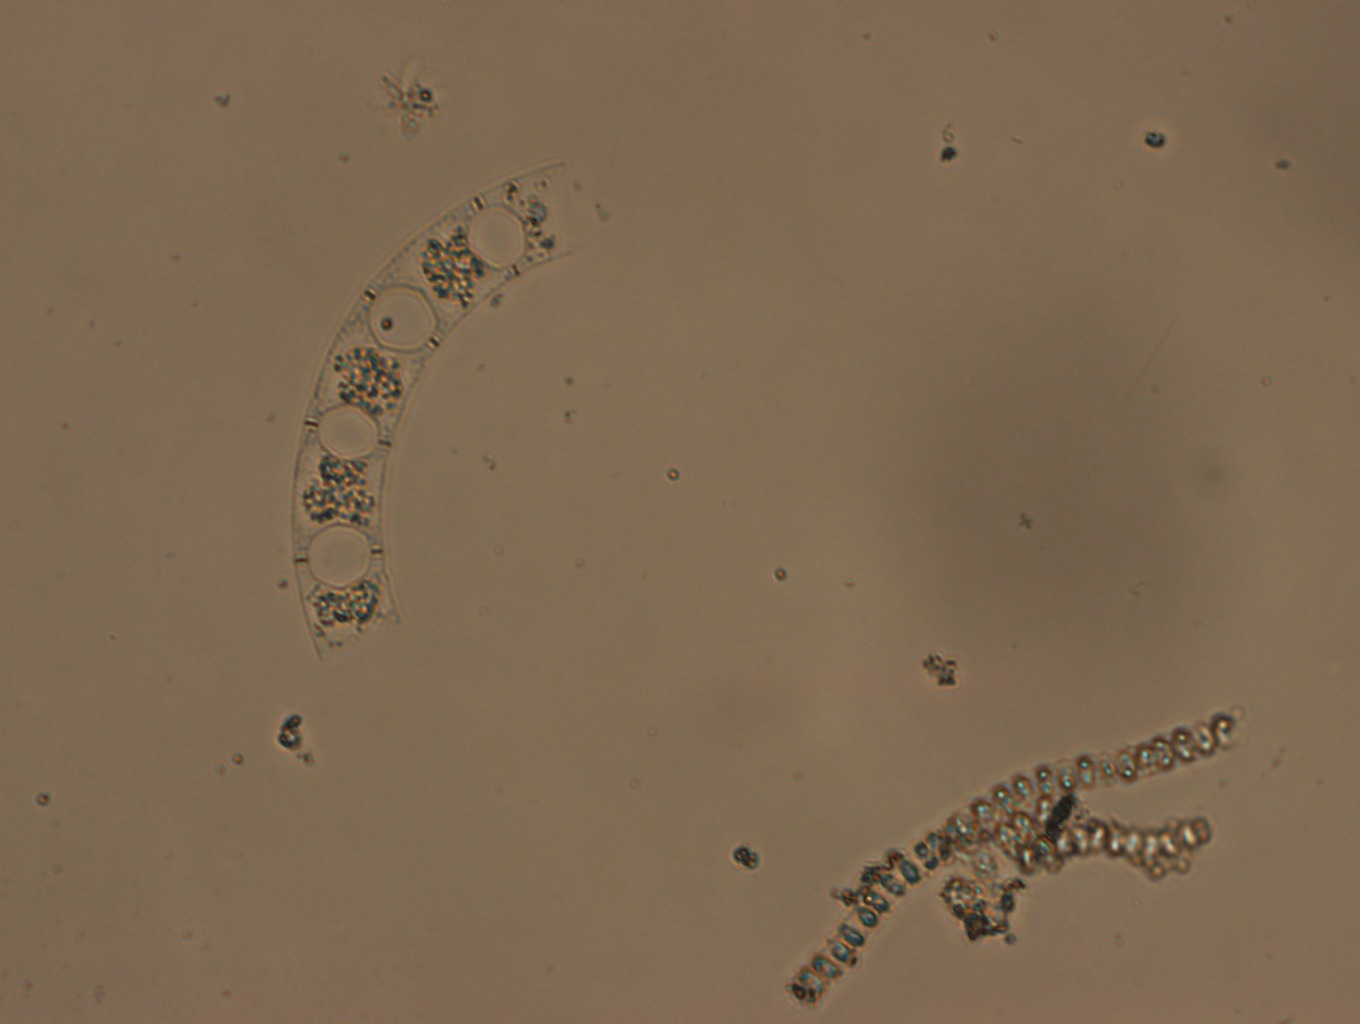eucampia: (276, 142, 600, 667)
